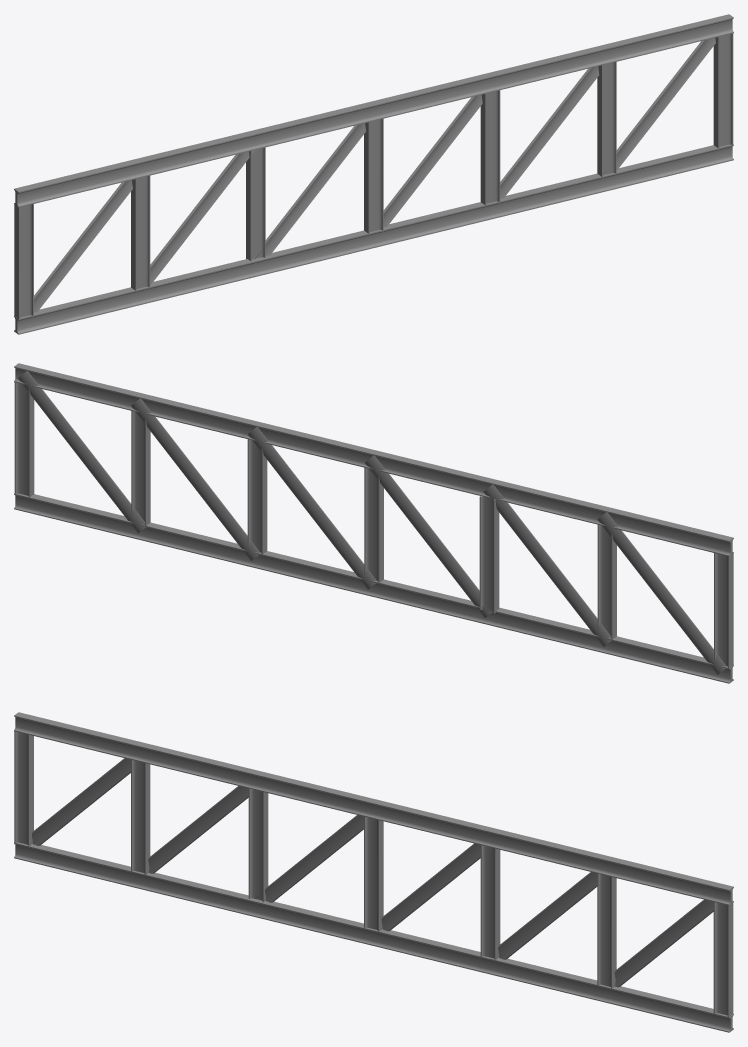
File: SM_industrial_support_rods.fbx
3 views of the same model, one above another, from view 1: azimuth 30°, elevation 25°; view 2: azimuth 150°, elevation 25°; view 3: azimuth 330°, elevation 25° (orthographic).
Parts seen in each view (by area): view 1: industrial_support_rods; view 2: industrial_support_rods; view 3: industrial_support_rods.
Part boxes in pixels (x1,y1,x2,y2): industrial_support_rods: (14,14,733,334); industrial_support_rods: (14,363,733,683); industrial_support_rods: (14,712,733,1032).
Bounding box in the file's own units: 761 × 145 × 11.16.
